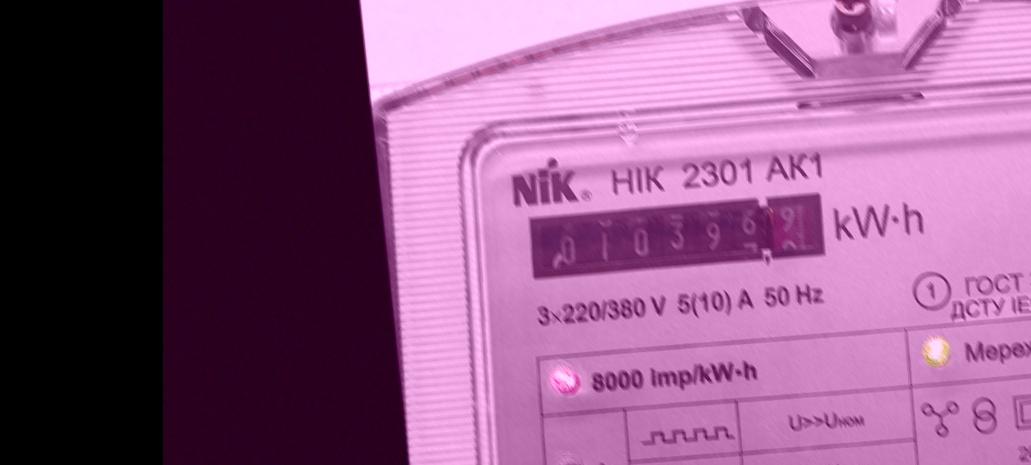0: (627, 223, 652, 258), (554, 230, 577, 265)
1: (595, 227, 611, 261)
3: (665, 217, 687, 252)
6: (735, 205, 759, 236)
9: (699, 217, 723, 252), (773, 202, 797, 234)
screen: (510, 172, 837, 300)
